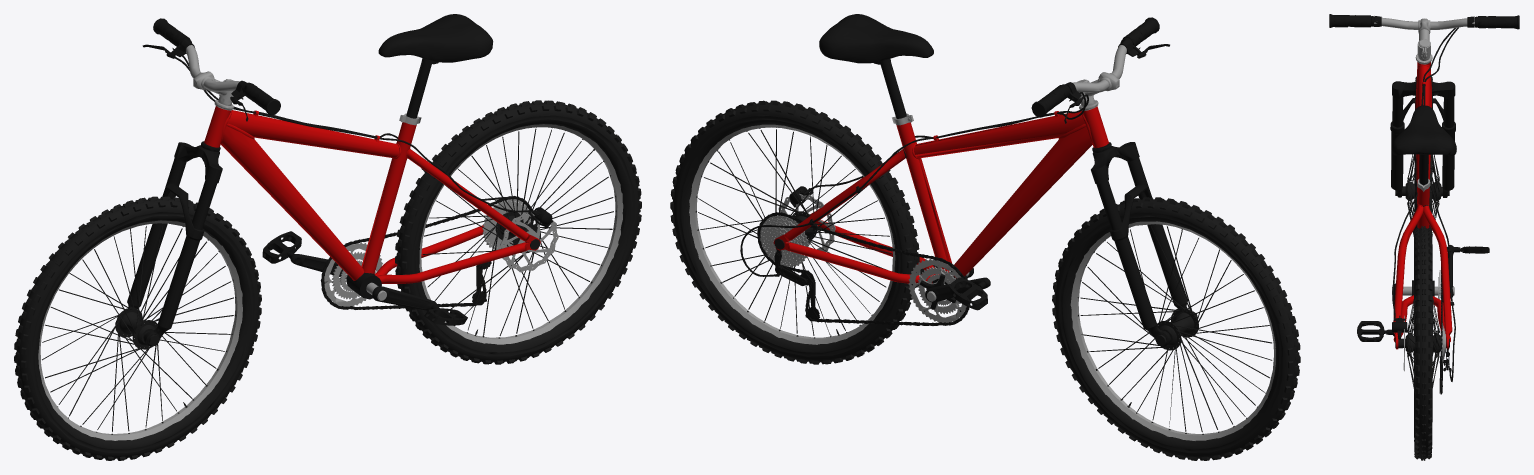
Rendered from Bicycle.FBX.
The picture shows the model from 3 angles, left to right: view 1: azimuth 30°, elevation 25°; view 2: azimuth 150°, elevation 25°; view 3: azimuth 270°, elevation 25°; orthographic projection. The views are drawn at different scales.
Parts seen in each view (by area): view 1: Bicycle, wheel 1, wheel 2; view 2: Bicycle, wheel 1, wheel 2; view 3: Bicycle, wheel 2, wheel 1.
Part boxes in pixels (x1,y1,x2,y2): Bicycle: (127,14,558,346); wheel 1: (14,196,261,460); wheel 2: (395,100,641,364); Bicycle: (740,14,1197,346); wheel 1: (1052,197,1300,460); wheel 2: (670,100,919,364); Bicycle: (1329,14,1519,394); wheel 2: (1395,226,1449,460); wheel 1: (1395,76,1449,270).
Bounding box in the file's own units: 191 × 110 × 60.39.
